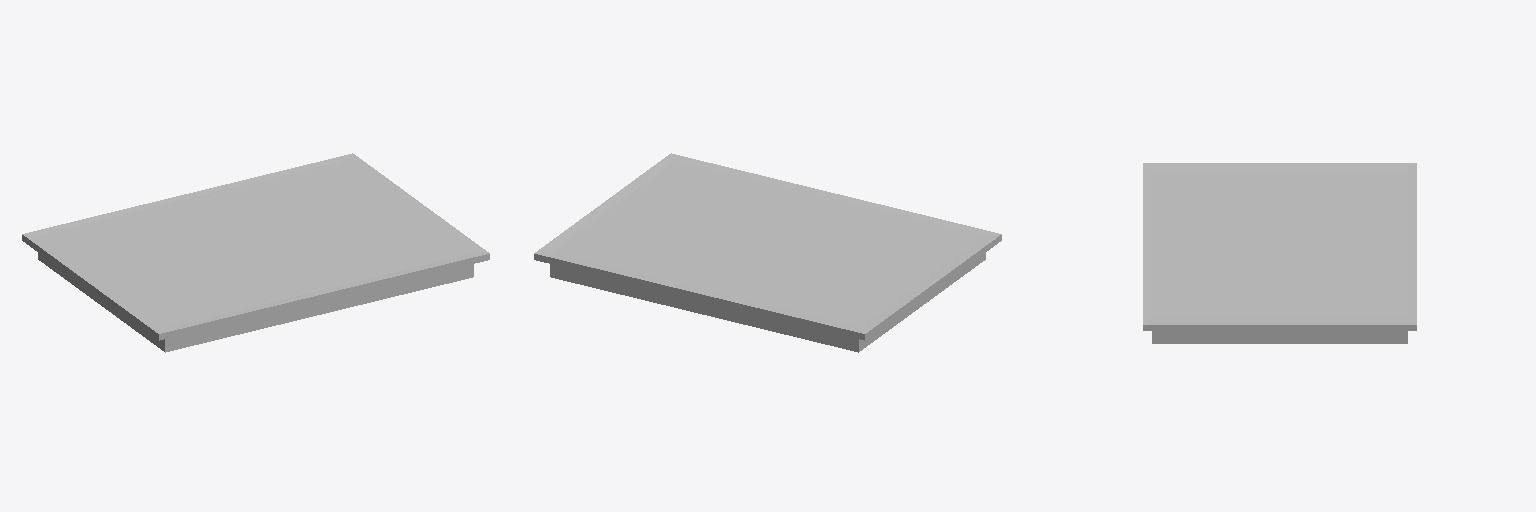
The model's file is LibroTOPfinal.OBJ.
3 renders of one model, left to right at view 1: azimuth 30°, elevation 25°; view 2: azimuth 150°, elevation 25°; view 3: azimuth 270°, elevation 25°, orthographic.
Size of the model in its own units: 22.78 by 1.6 by 16.3.